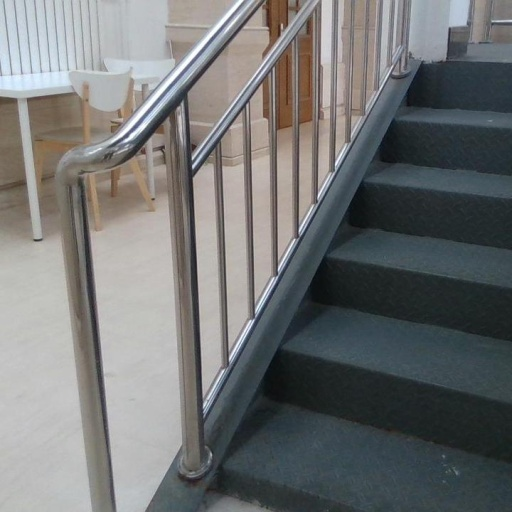Stairs: (214, 48, 512, 512)
